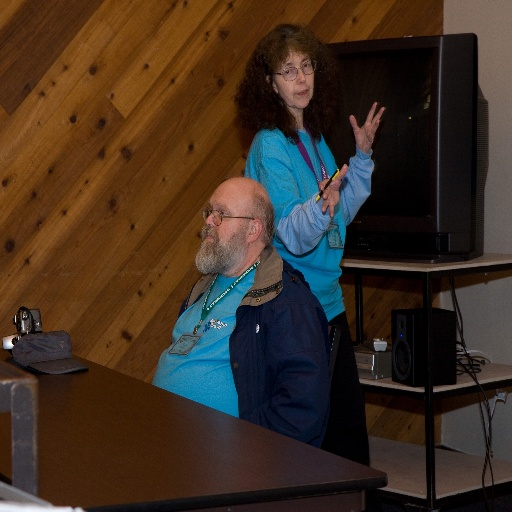hand: (344, 100, 394, 159), (317, 164, 348, 217)
